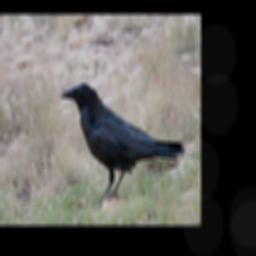Crow: (59, 82, 186, 205)
